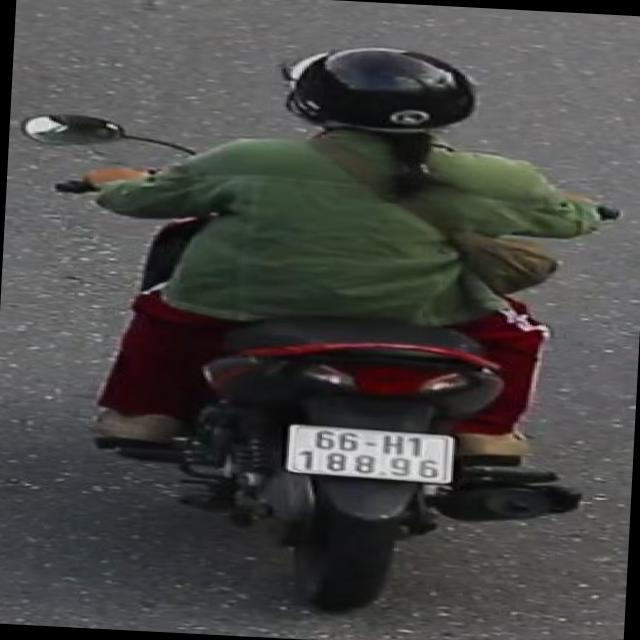LP: (278, 423, 464, 491)
helmet: (277, 34, 489, 166)
